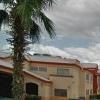Tree: (2, 0, 67, 47)
